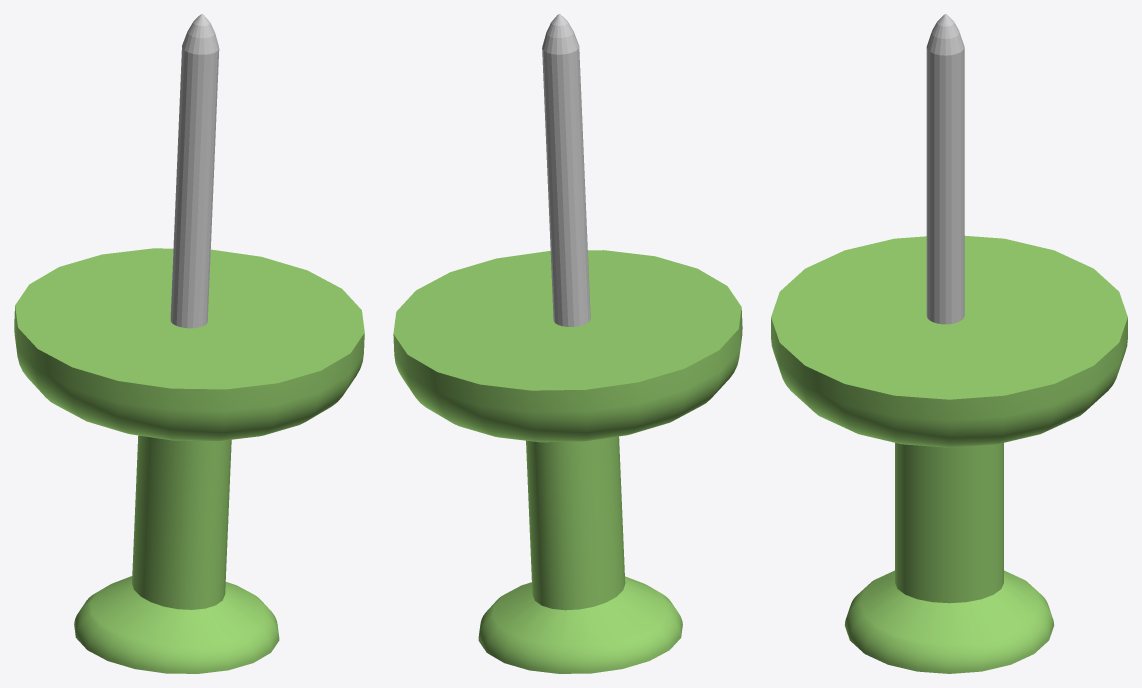
Rendered from GreenThumbtack.fbx.
The picture shows the model from 3 angles, left to right: view 1: azimuth 30°, elevation 25°; view 2: azimuth 150°, elevation 25°; view 3: azimuth 270°, elevation 25°; orthographic projection.
Visible parts, largest first — view 1: ThumbtackBod, pCylinder1; view 2: ThumbtackBod, pCylinder1; view 3: ThumbtackBod, pCylinder1.
Part boxes in pixels (<box>): ThumbtackBod: <box>14,248,364,673</box>; pCylinder1: <box>170,14,219,328</box>; ThumbtackBod: <box>393,250,742,673</box>; pCylinder1: <box>542,14,590,326</box>; ThumbtackBod: <box>771,235,1127,673</box>; pCylinder1: <box>926,14,964,324</box>.
Bounding box in the file's own units: 3.41 × 6.6 × 3.41.
